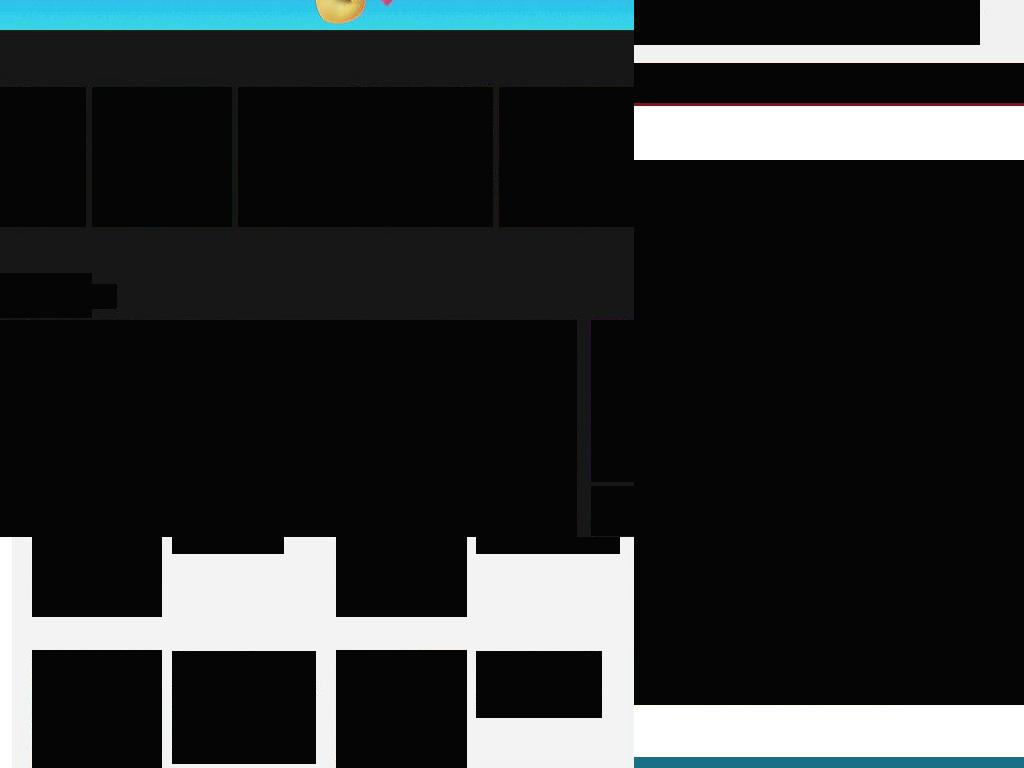button: (634, 537, 1024, 705), (634, 0, 980, 45), (781, 63, 991, 103), (634, 63, 782, 103), (0, 277, 117, 314), (914, 432, 939, 456), (943, 432, 968, 456), (971, 432, 996, 456), (1000, 432, 1024, 456)
heading: (634, 160, 1024, 537), (172, 651, 316, 764), (634, 0, 980, 45), (476, 651, 602, 718), (634, 177, 981, 200), (476, 537, 620, 554), (172, 537, 284, 554)
image: (0, 320, 577, 537), (238, 87, 493, 227), (92, 87, 232, 227), (499, 87, 634, 227), (336, 650, 467, 768), (32, 650, 162, 768), (0, 87, 86, 227), (336, 537, 467, 617), (32, 537, 162, 617), (601, 441, 631, 472), (591, 510, 616, 536), (92, 284, 117, 309)
text: (634, 230, 1024, 356), (0, 273, 92, 318)
